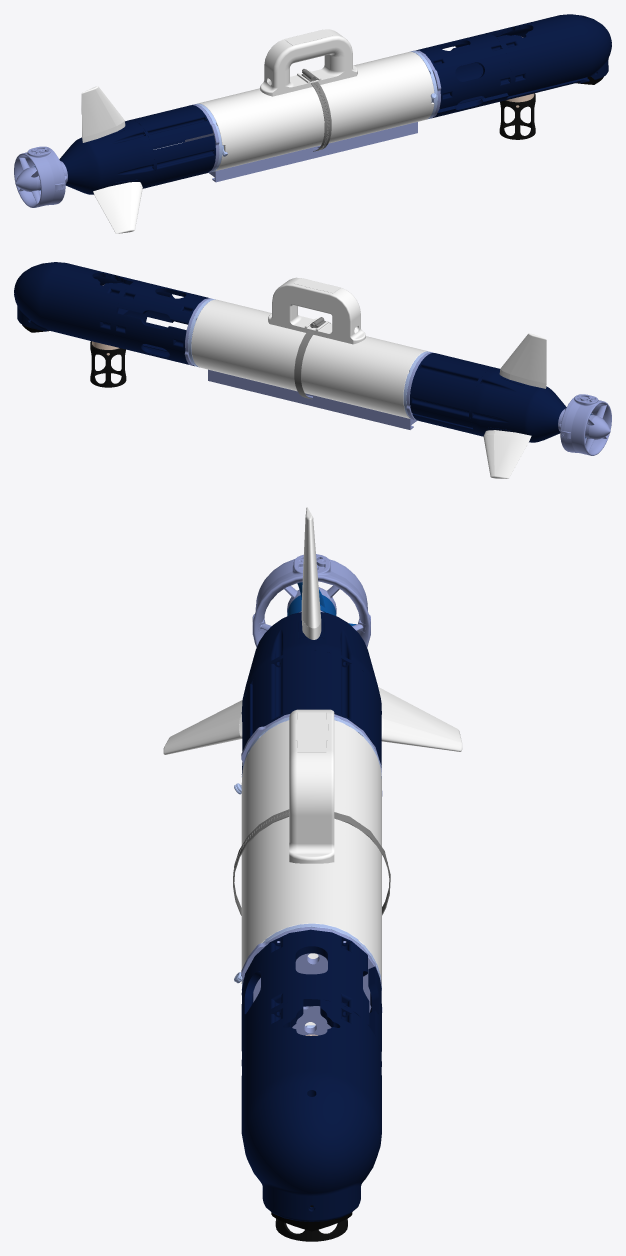
Rendered from DrewUV_SM.FBX.
3 views of the same model, one above another, from view 1: azimuth 30°, elevation 25°; view 2: azimuth 150°, elevation 25°; view 3: azimuth 270°, elevation 25° (orthographic). The views are drawn at different scales.
Visible parts, largest first — view 1: DrewUVStaticMesh; view 2: DrewUVStaticMesh; view 3: DrewUVStaticMesh.
Part boxes in pixels (box(x1,y1,x2,y2)): DrewUVStaticMesh: box(14, 14, 611, 233); DrewUVStaticMesh: box(14, 262, 611, 478); DrewUVStaticMesh: box(163, 507, 462, 1241).
Size of what is drawn, in the model's own units: 112 by 24.39 by 26.8.
